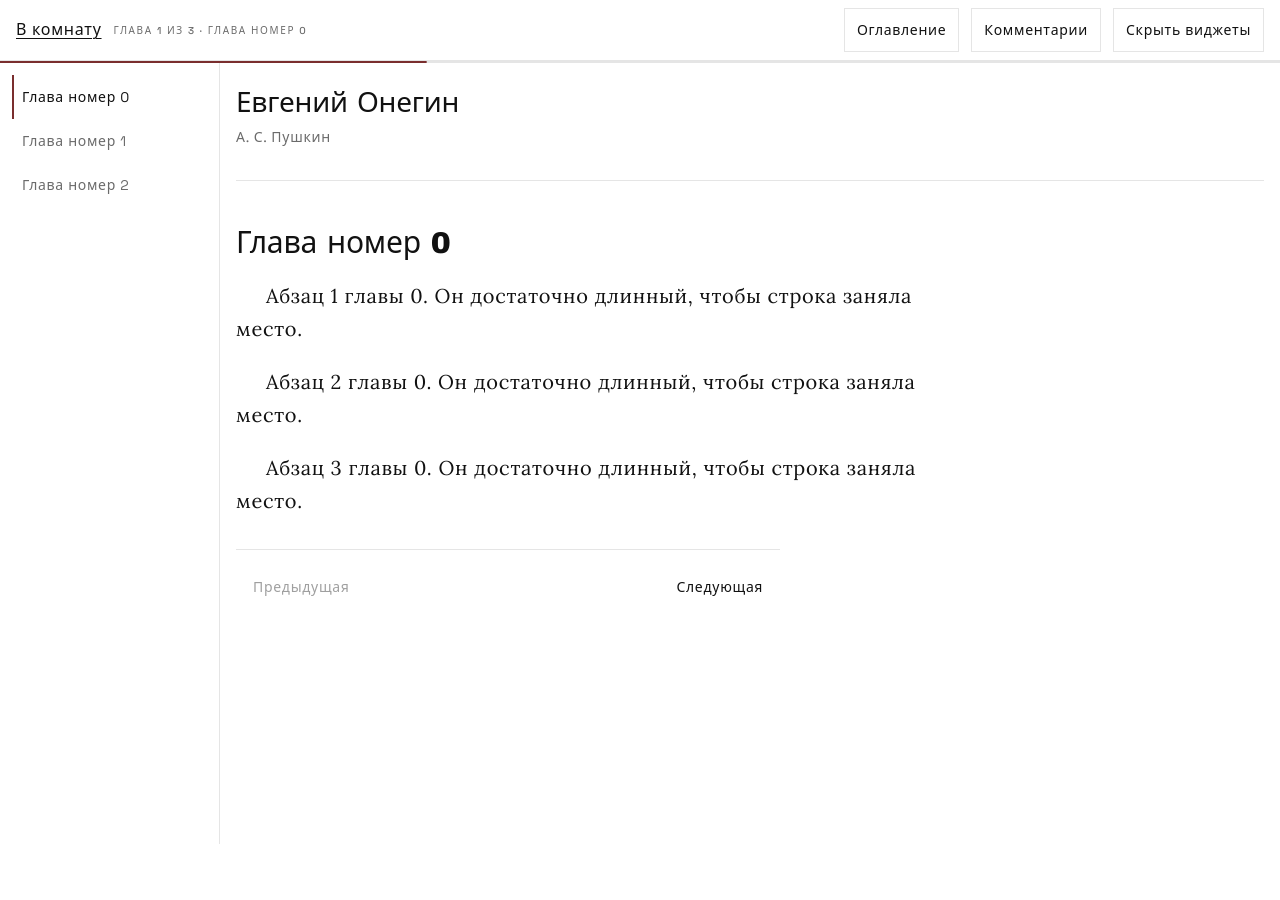
Test case: рендер главы › при смене главы прошлая не остаётся под новой
The width and height of the screenshot is (1280, 900).
Check: the element with class "chapter" is shown, box x1=236 y1=226 x2=916 y2=517
Check: the heading "Глава номер 0" is shown, box x1=236 y1=227 x2=451 y2=259
Click the button "Следующая" at (720,588), box x1=660 y1=566 x2=780 y2=610
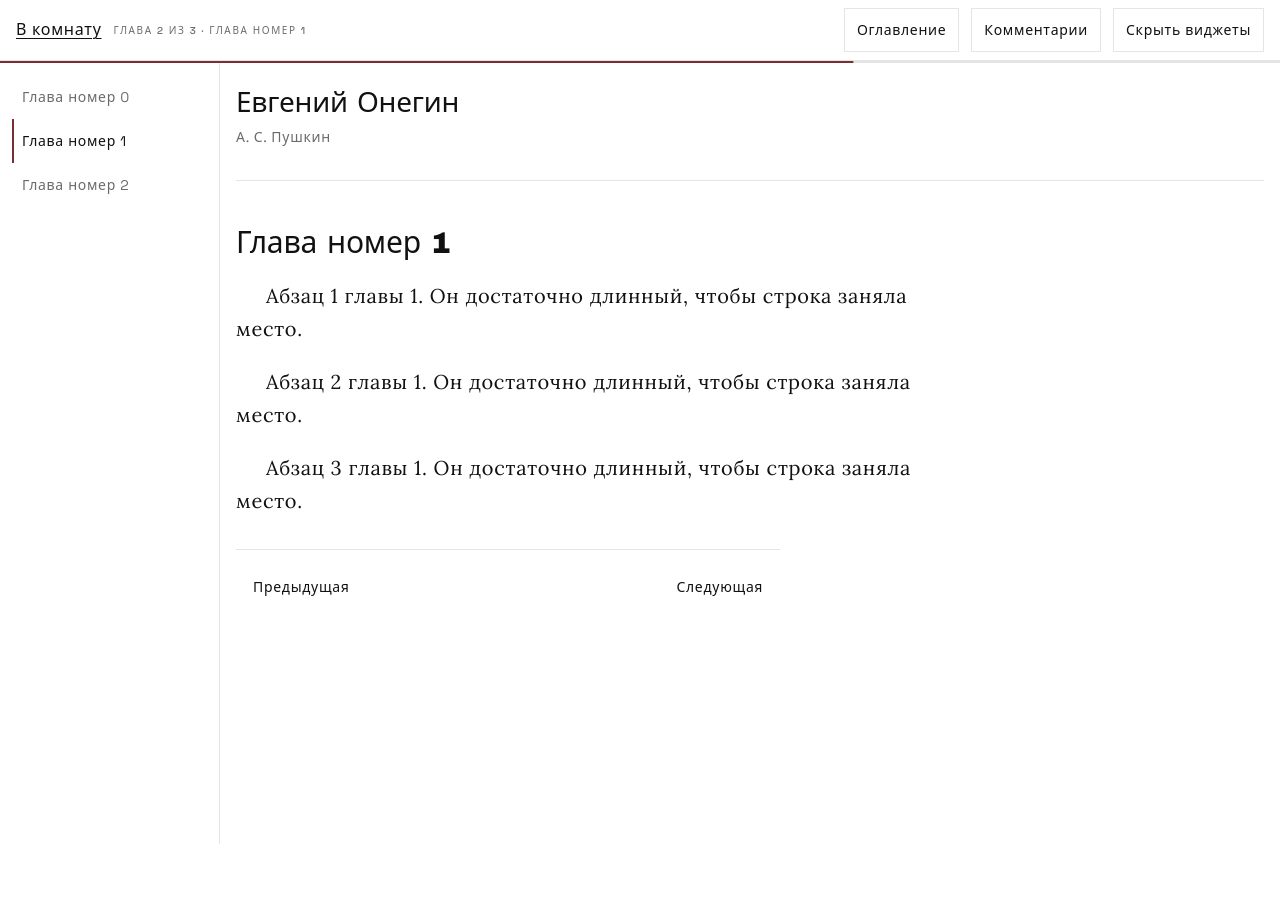
Check: the element with class "chapter" is shown, box x1=236 y1=226 x2=916 y2=517
Check: the heading "Глава номер 1" is shown, box x1=236 y1=227 x2=451 y2=259
